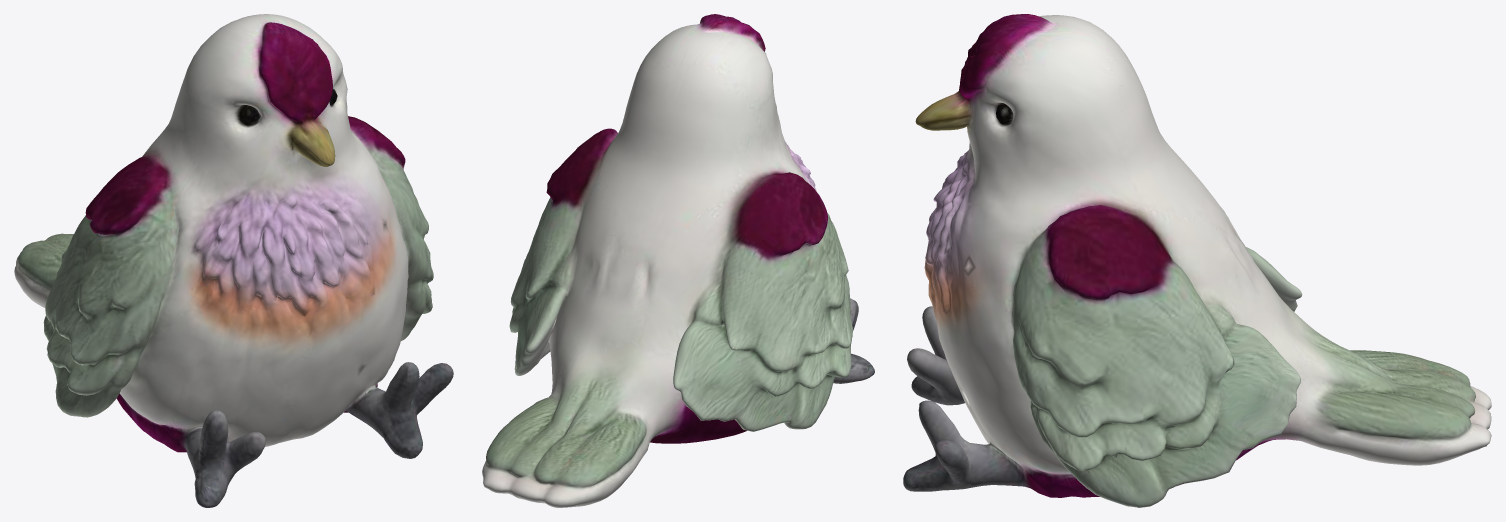
Rendered from mochi.glb.
3 views of the same model, side by side, from view 1: azimuth 30°, elevation 25°; view 2: azimuth 150°, elevation 25°; view 3: azimuth 270°, elevation 25° (orthographic). The views are drawn at different scales.
Parts seen in each view (by area): view 1: mochi; view 2: mochi; view 3: mochi.
Part boxes in pixels (<box>): mochi: <box>14,14,453,507</box>; mochi: <box>482,14,874,507</box>; mochi: <box>903,14,1491,507</box>.
Bounding box in the file's own units: 0.5917 × 0.6554 × 0.8.
Materials: 1 (1 with a texture image).
